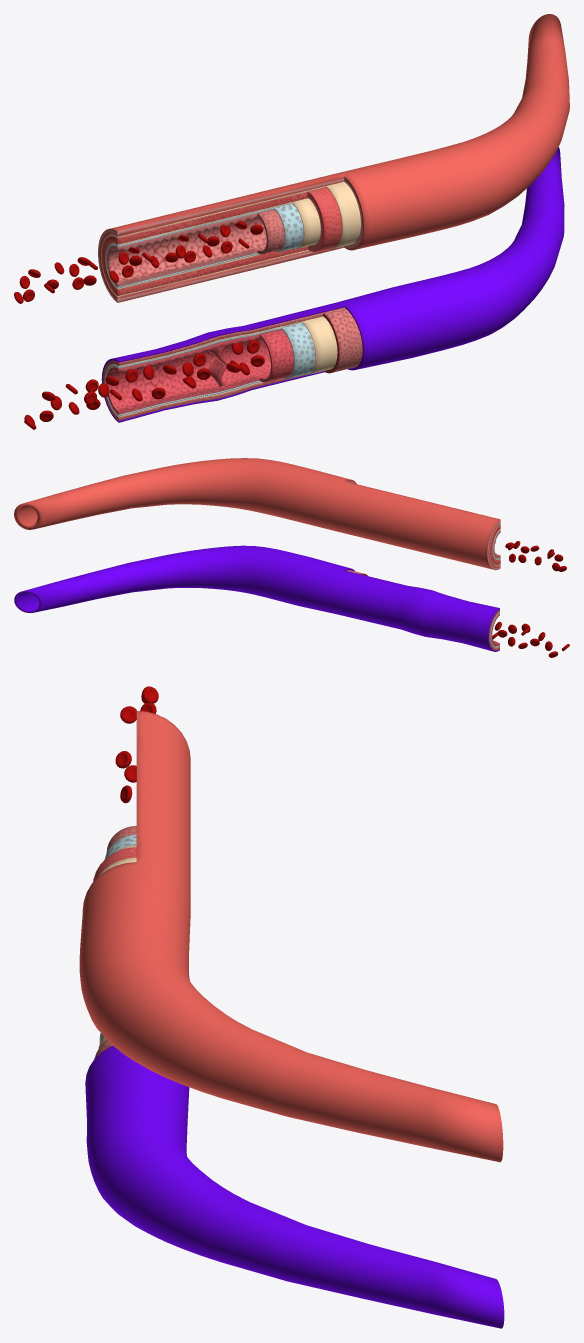
The model's file is blood-vessels.glb.
3 renders of one model, top to bottom at view 1: azimuth 30°, elevation 25°; view 2: azimuth 150°, elevation 25°; view 3: azimuth 270°, elevation 25°, orthographic. The views are drawn at different scales.
Visible parts, largest first — view 1: Lumen_blood vessels_0; view 2: Lumen_blood vessels_0; view 3: Lumen_blood vessels_0.
Boxes of the visible parts, <box> form: Lumen_blood vessels_0: <box>14,14,569,429</box>; Lumen_blood vessels_0: <box>14,458,569,657</box>; Lumen_blood vessels_0: <box>79,686,504,1328</box>.
Size of the model in its own units: 7.31 by 2.01 by 2.9.
Materials: 1 (1 with a texture image).
